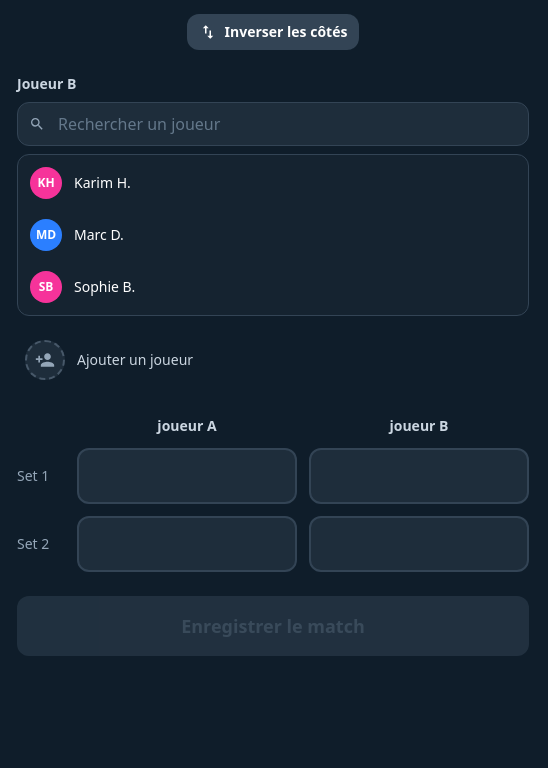
Test: Ping-pong match entry › the set rows › grows a third set once the first two are split
(page scrolled)
Type "11" into the field named "Set 1, joueur A" at (187, 476), box [77,448,297,504]
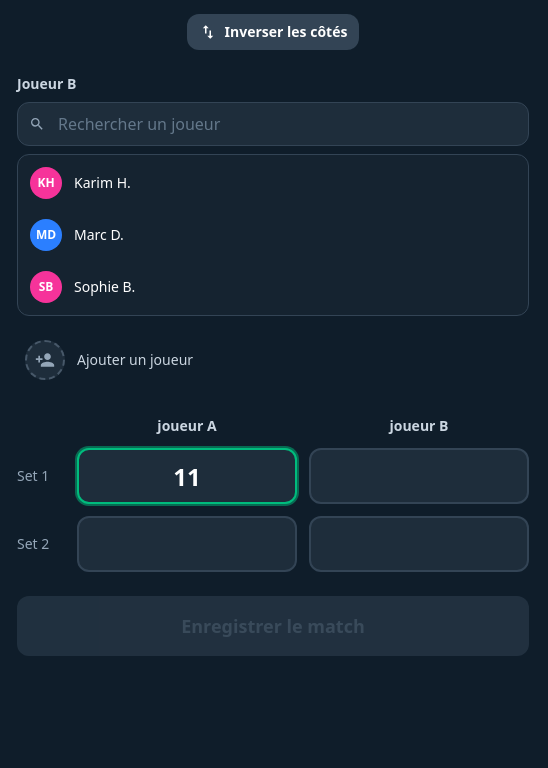
Type "5" into the field named "Set 1, joueur B" at (419, 476), box [309,448,529,504]
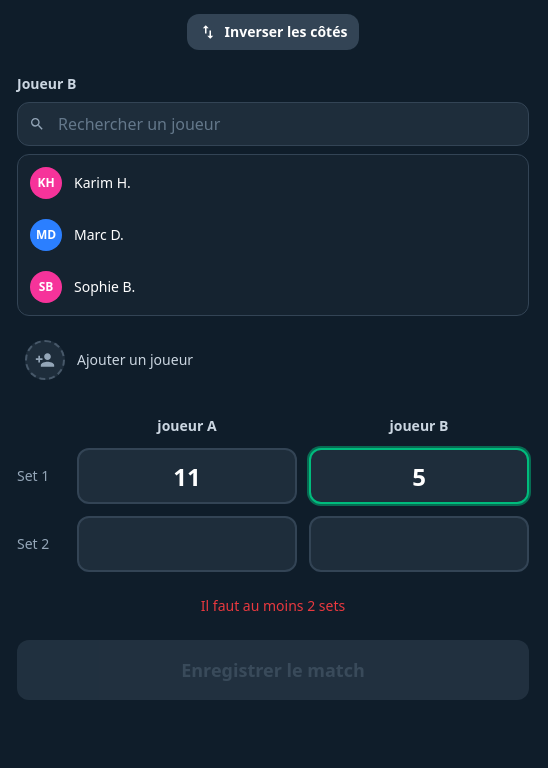
Type "8" into the field named "Set 2, joueur A" at (187, 544), box [77,516,297,572]
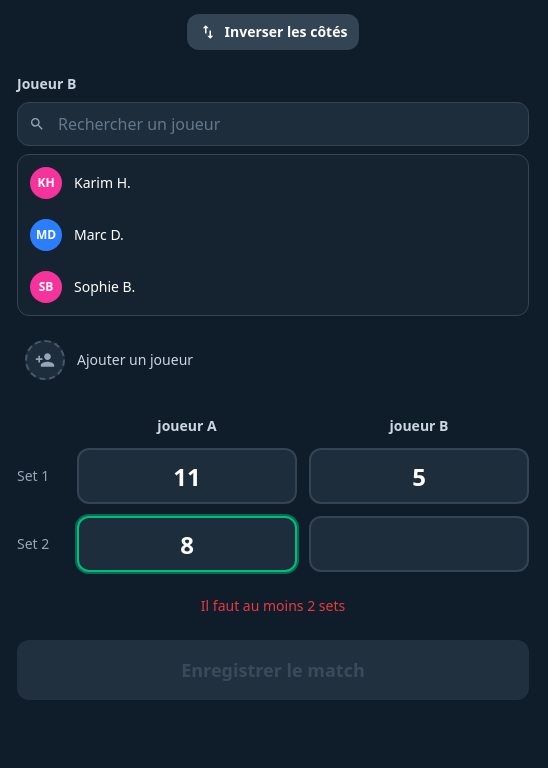
Type "11" into the field named "Set 2, joueur B" at (419, 544), box [309,516,529,572]
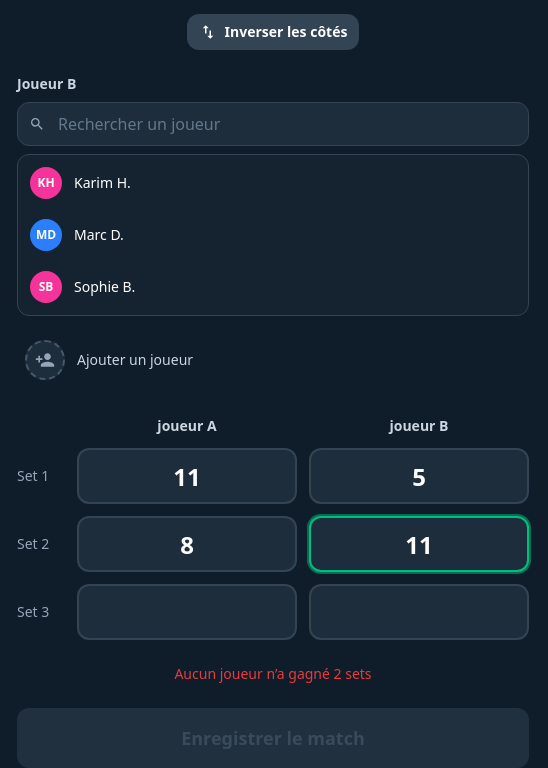
Result: the field named "Set 3, joueur A" is shown at [77,584,297,640]
